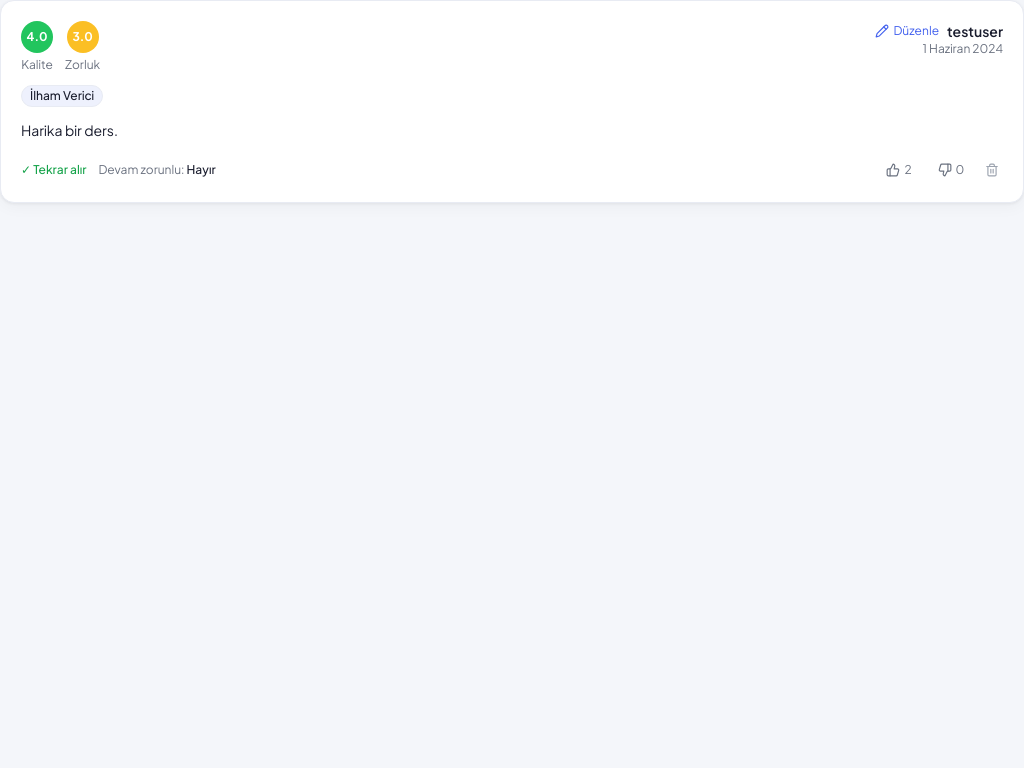
Scenario: ReviewCard › opens edit form when owner clicks Düzenle
Click the button with aria-label "Yorumu düzenle": (907, 31) [876,23,939,39]
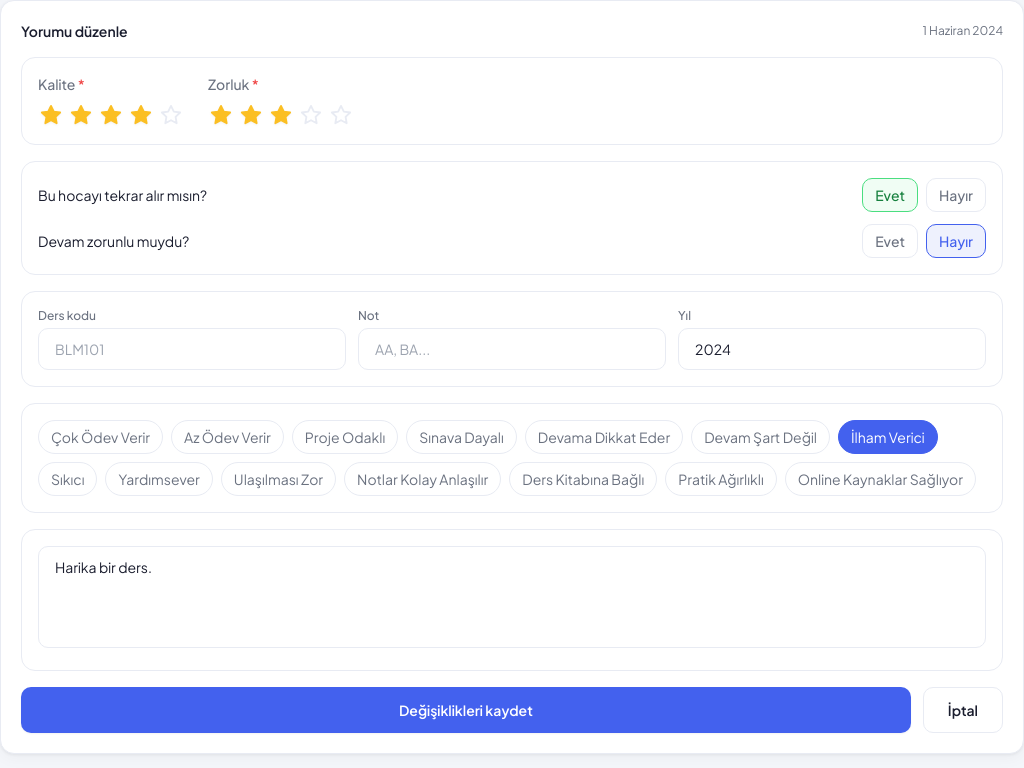
Check: the text "Yorumu düzenle" is shown, box [21,21,128,41]
Check: the button "Değişiklikleri kaydet" is shown, box [21,687,911,733]
